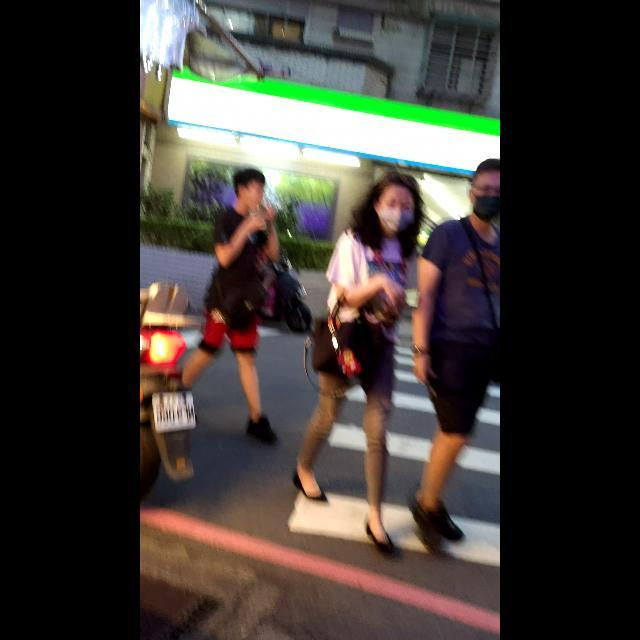sidewalk: (283, 288, 500, 620)
